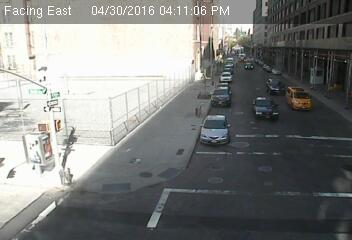neg: (51, 154, 73, 184), (154, 112, 174, 139), (197, 82, 217, 108), (102, 125, 120, 149), (311, 66, 327, 88), (293, 174, 309, 195), (245, 56, 260, 76)
